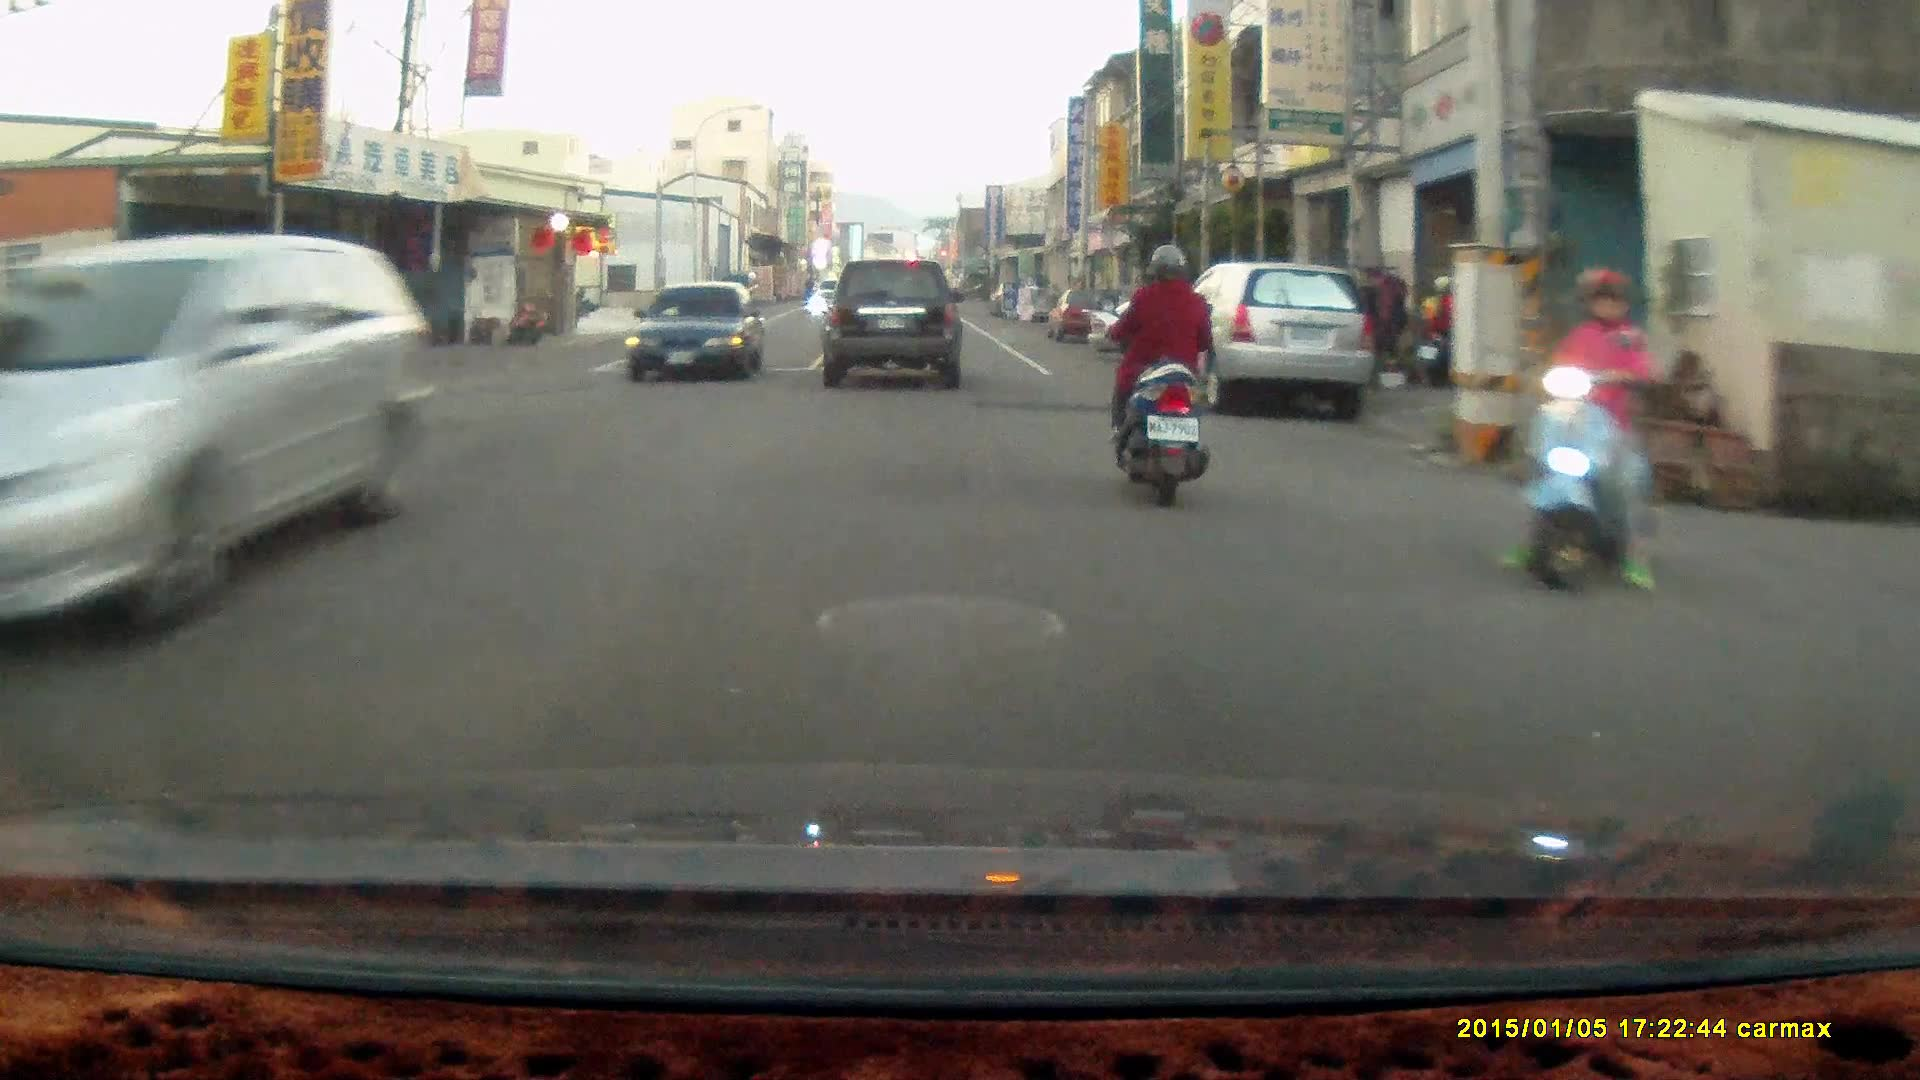rider: (1496, 268, 1666, 597), (1106, 239, 1212, 507), (1417, 272, 1453, 386)
vehicle: (1, 232, 443, 658), (1156, 260, 1374, 416), (822, 258, 965, 393), (631, 279, 768, 385)
